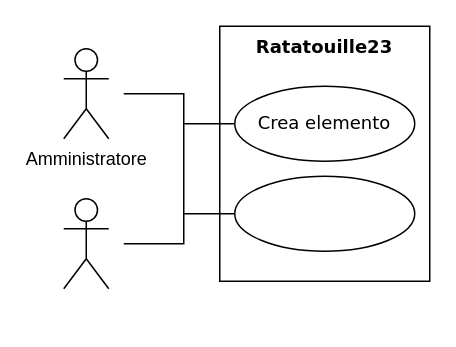
This 456x347 diagram has some shape labels left out. The shapes that lost their labels are listed below. From the top down, each one's box as (x1, y1, x2, y2) in pixels, then its label:
(233, 175, 415, 251): Rimuove elemento
(62, 197, 109, 289): Supervisore
